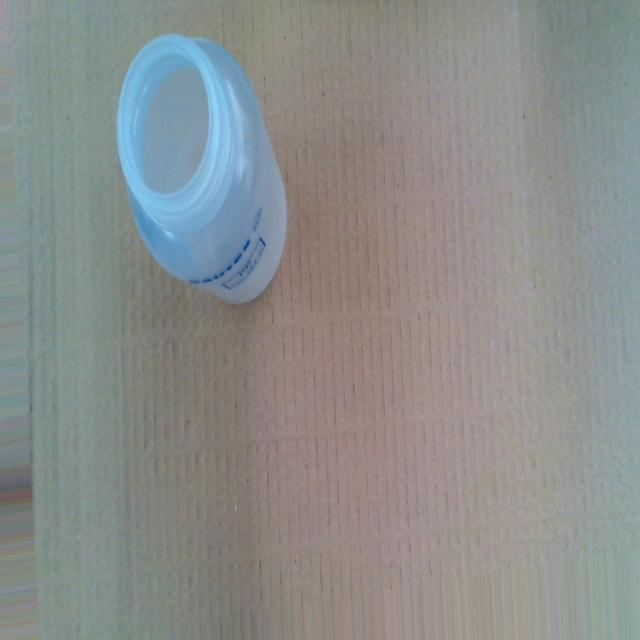bottle: (114, 27, 290, 315)
